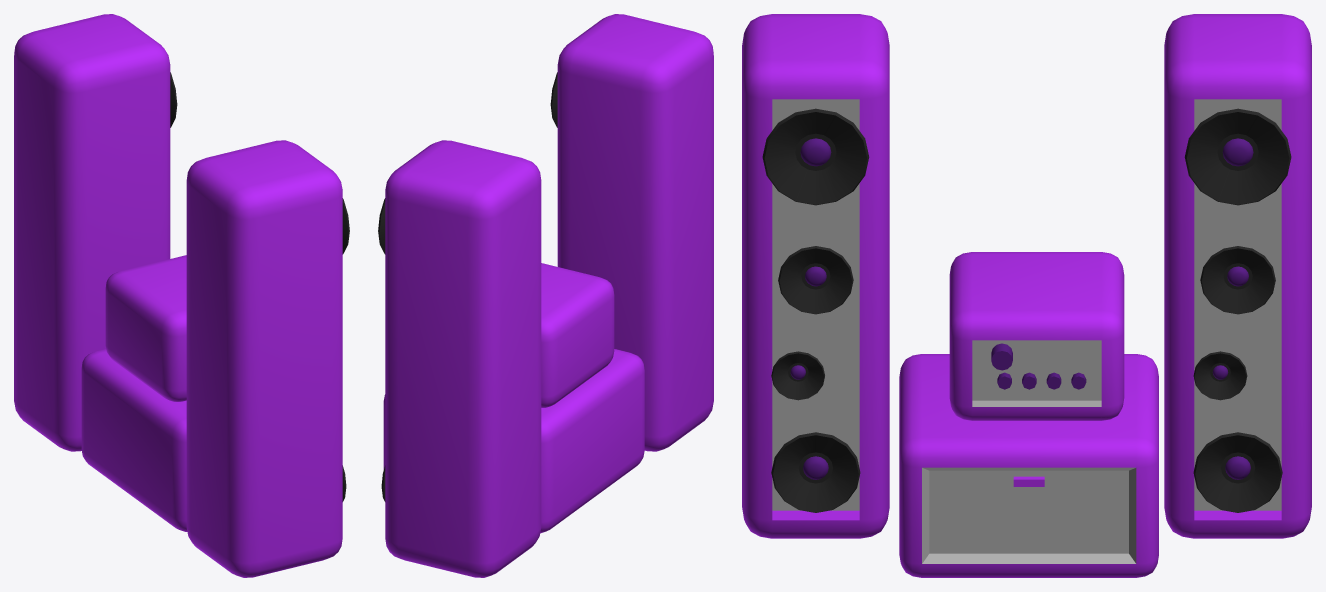
File: Anlage_Roy.FBX
3 renders of one model, left to right at view 1: azimuth 30°, elevation 25°; view 2: azimuth 150°, elevation 25°; view 3: azimuth 270°, elevation 25°, orthographic. The views are drawn at different scales.
Parts seen in each view (by area): view 1: Anlage; view 2: Anlage; view 3: Anlage.
Part boxes in pixels (box(x1,y1,x2,y2)): Anlage: box(14, 14, 349, 577); Anlage: box(378, 14, 713, 577); Anlage: box(742, 14, 1311, 577).
Bounding box in the file's own units: 78.1 × 166 × 181.
